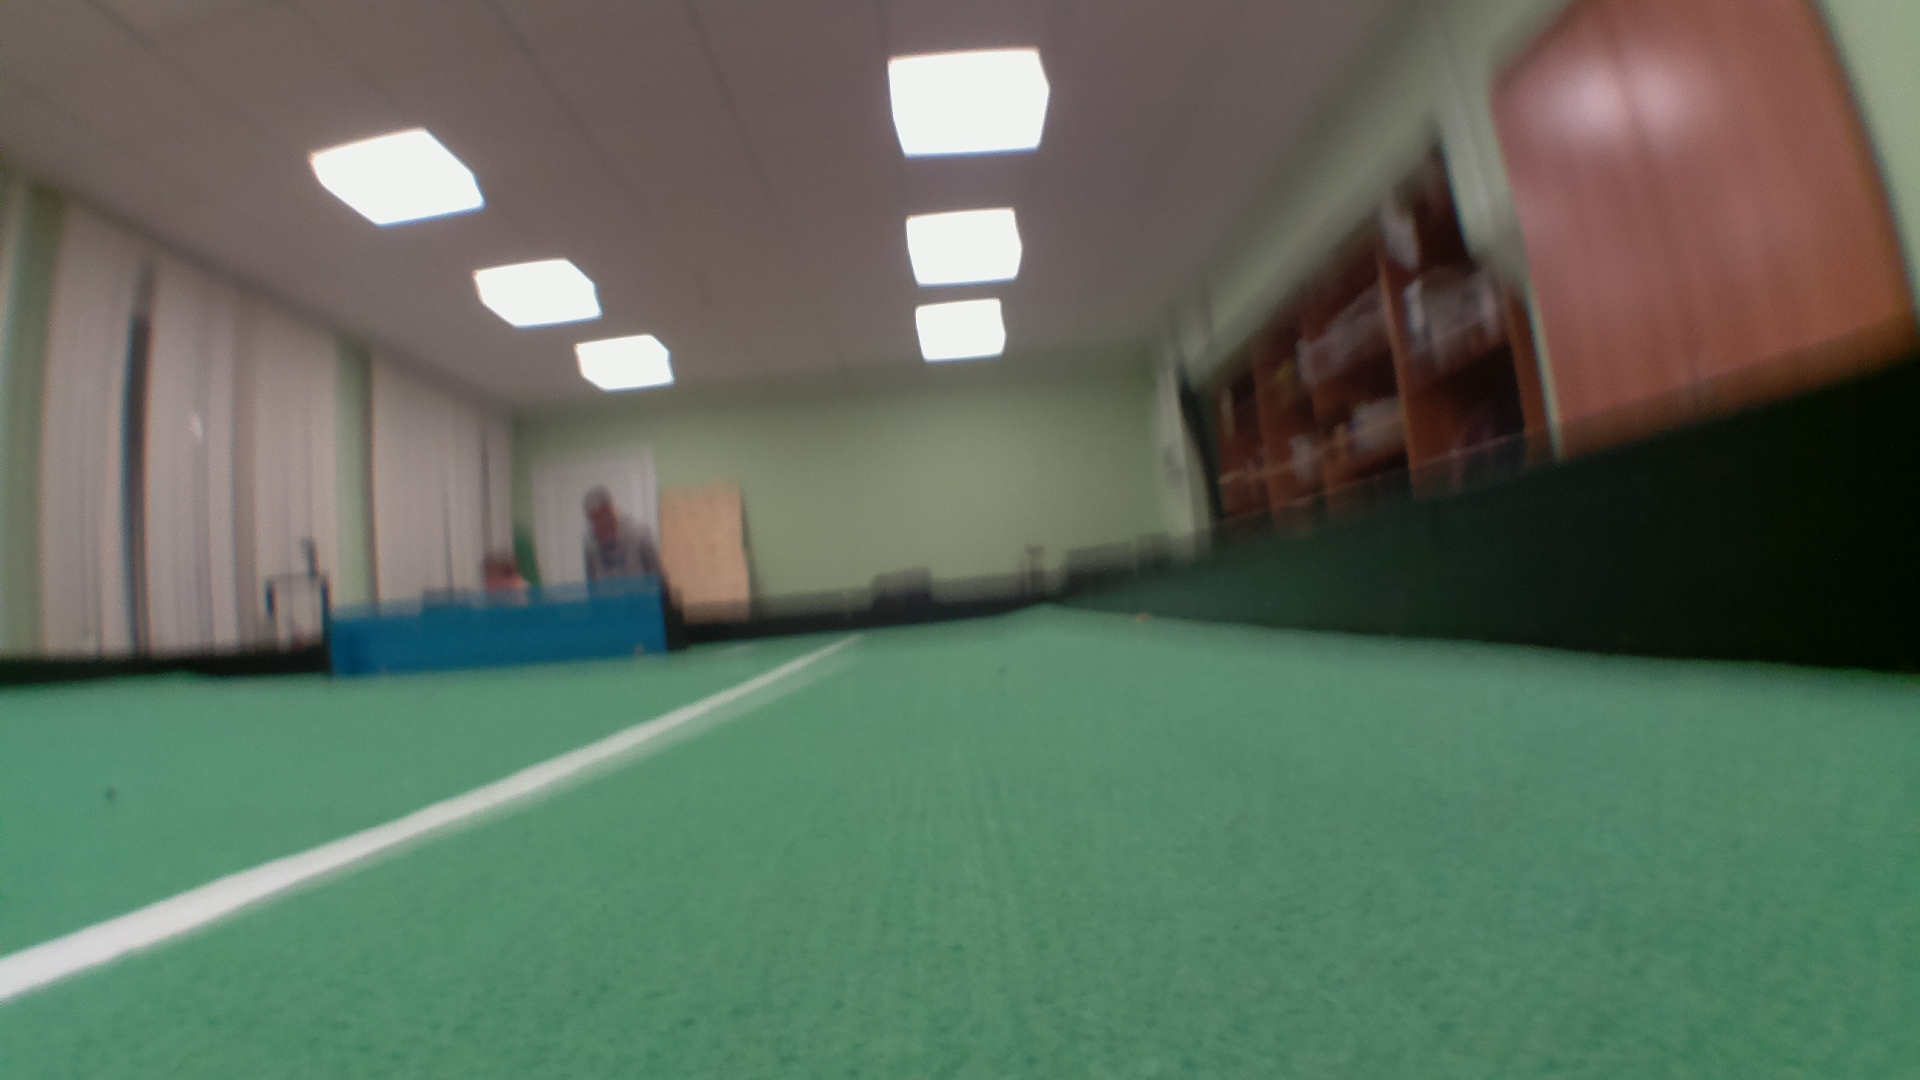BlueGoal: (326, 580, 666, 679)
